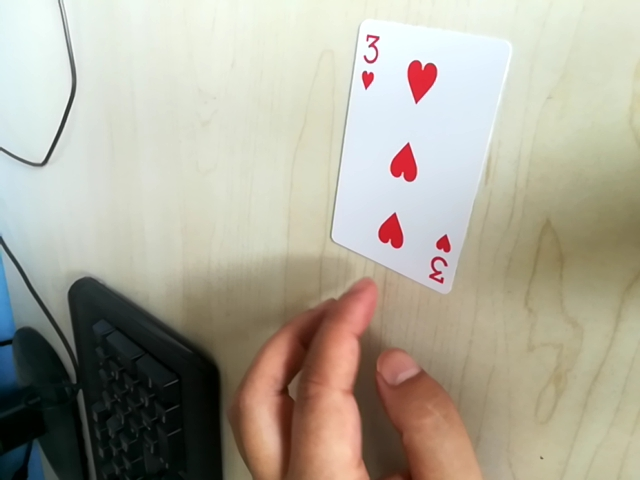hx 3: (421, 234, 459, 292), (353, 22, 386, 83)
